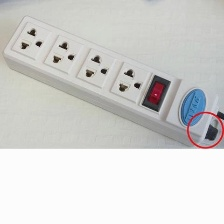three_eye_plug: (0, 12, 222, 150)
